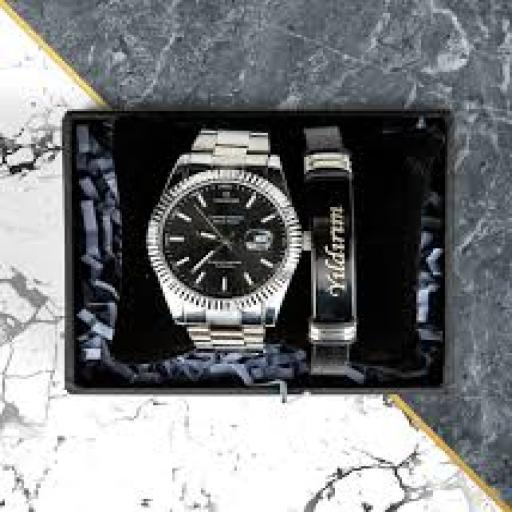KolSaati: (137, 124, 316, 365)
